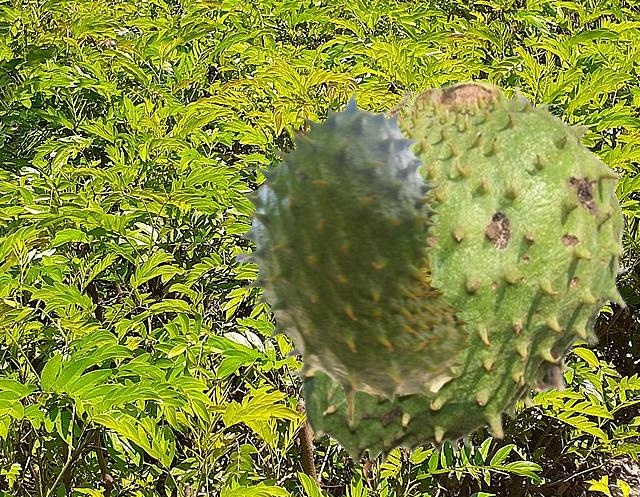guyabano: (284, 80, 628, 465), (235, 93, 472, 423)
